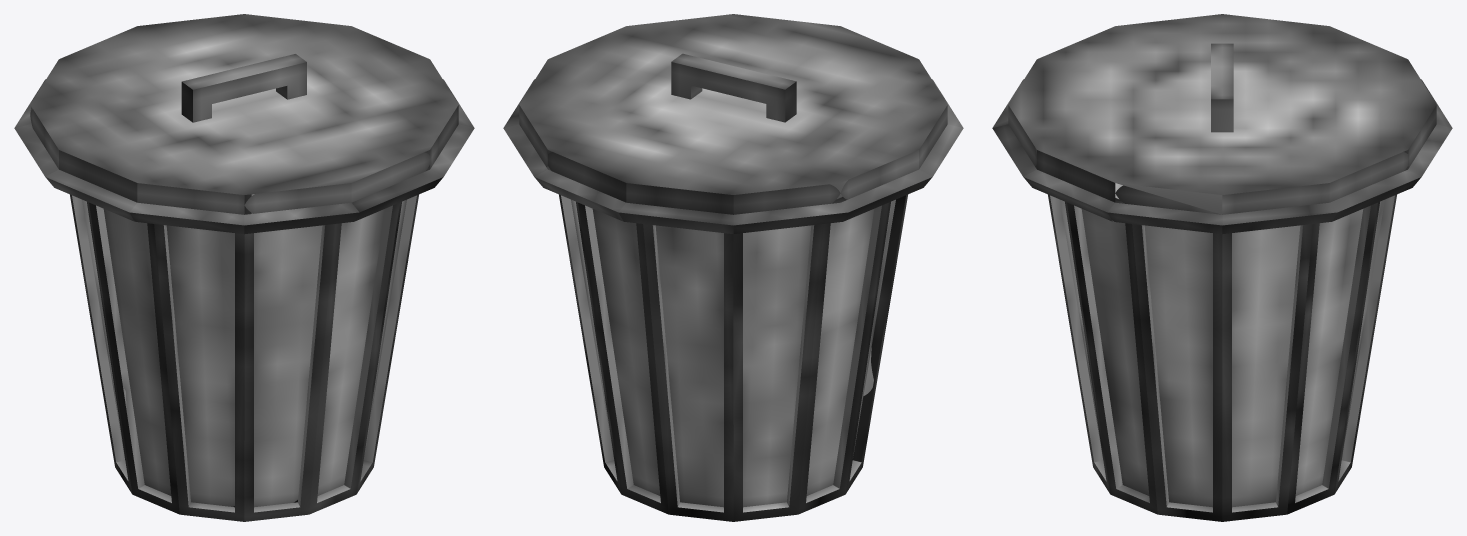
The model's file is lixeiraZefir.fbx.
3 views of the same model, side by side, from view 1: azimuth 30°, elevation 25°; view 2: azimuth 150°, elevation 25°; view 3: azimuth 270°, elevation 25° (orthographic).
Visible parts, largest first — view 1: Cube.101_Cube.002; view 2: Cube.101_Cube.002; view 3: Cube.101_Cube.002.
Part boxes in pixels (x1,y1,x2,y2): Cube.101_Cube.002: [14, 14, 474, 521]; Cube.101_Cube.002: [503, 14, 963, 521]; Cube.101_Cube.002: [992, 14, 1452, 521].
Bounding box in the file's own units: 128 × 121 × 128.
Materials: 1 (1 with a texture image).
